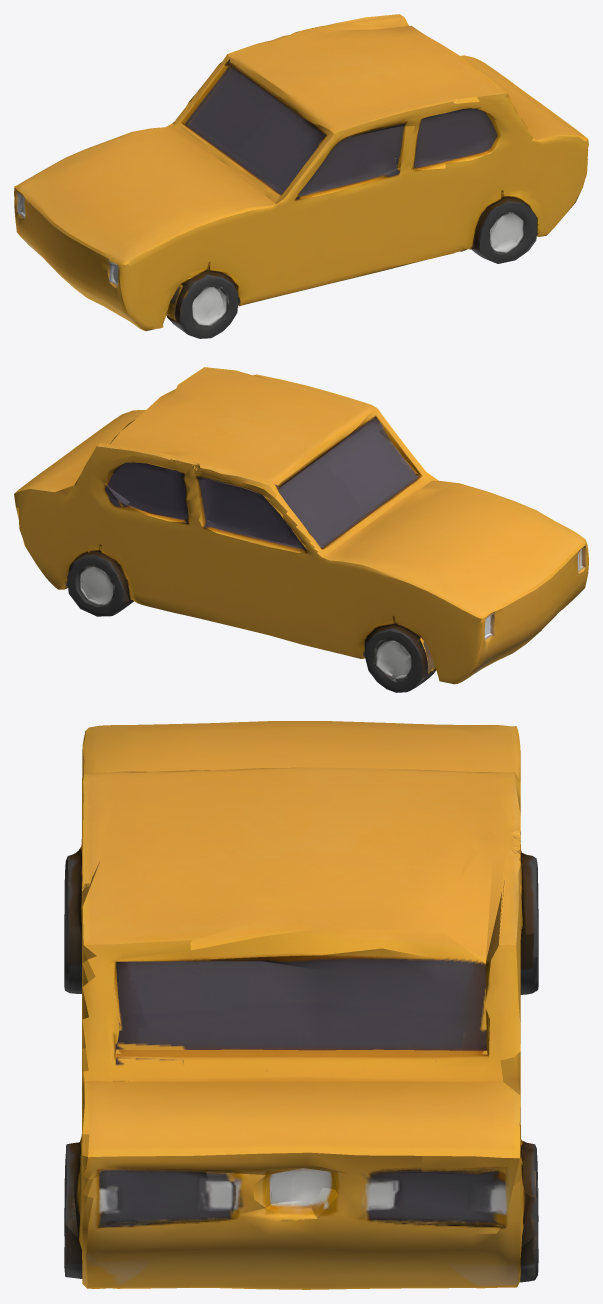
The model's file is Meshy_AI_Yellow_Polygonal_Car_1218214009_texture.fbx.
3 renders of one model, top to bottom at view 1: azimuth 30°, elevation 25°; view 2: azimuth 150°, elevation 25°; view 3: azimuth 270°, elevation 25°, orthographic. The views are drawn at different scales.
Visible parts, largest first — view 1: Mesh0; view 2: Mesh0; view 3: Mesh0.
Boxes of the visible parts, x1,y1,x2,y2 form: Mesh0: (14, 14, 588, 338); Mesh0: (14, 367, 588, 692); Mesh0: (64, 721, 538, 1289).
Bounding box in the file's own units: 191 × 69.06 × 82.67.
Materials: 1 (1 with a texture image).
